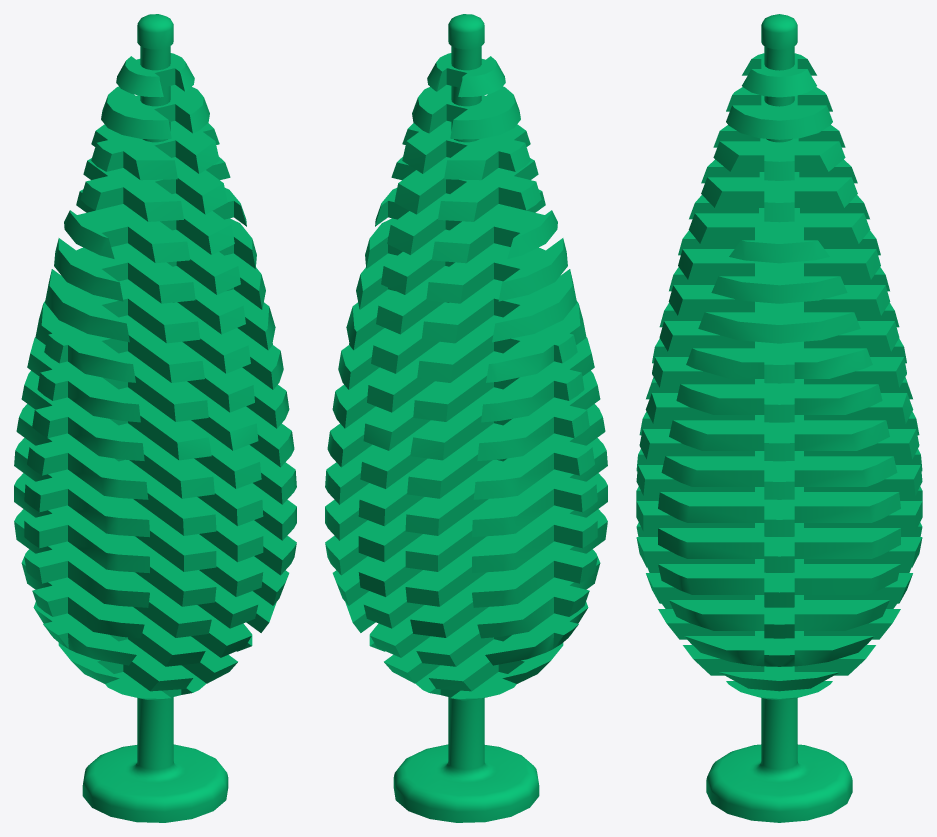
The model's file is tallTree.fbx.
The picture shows the model from 3 angles, left to right: view 1: azimuth 30°, elevation 25°; view 2: azimuth 150°, elevation 25°; view 3: azimuth 270°, elevation 25°; orthographic projection.
Parts seen in each view (by area): view 1: Piece600; view 2: Piece600; view 3: Piece600.
Boxes of the visible parts, x1=… form: Piece600: x1=14, y1=14, x2=296, y2=822; Piece600: x1=325, y1=14, x2=607, y2=822; Piece600: x1=636, y1=14, x2=922, y2=822.
Size of the model in its own units: 940 by 2800 by 937.
